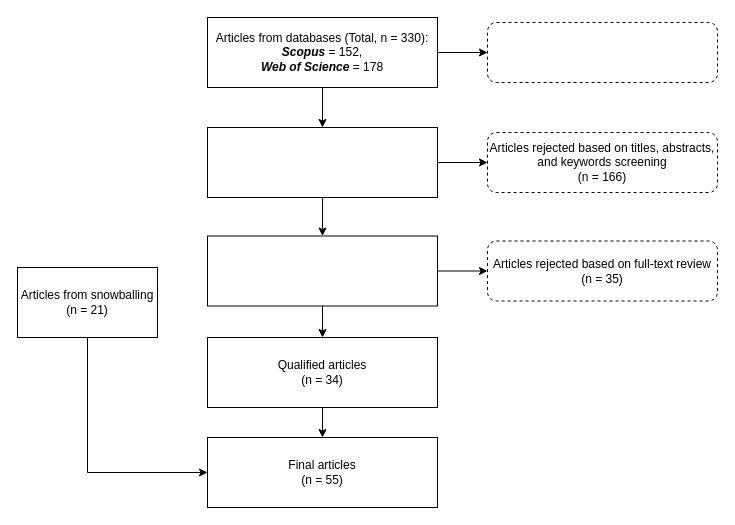
Image size: 735x525. Some labels were removed from this diagram. Here are the shapes that lost their labels. From the top down, the centre of each, then its label:
the point at 602,52: Duplication removed (n = 95)
the point at 322,162: Unique articles (n = 235)
the point at 322,270: PopSyn related articles (n = 69)
